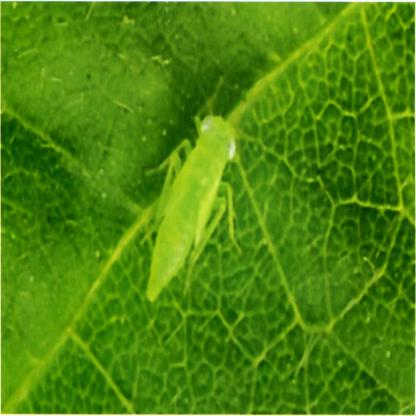Green-Leafhopper: (144, 77, 242, 310)
